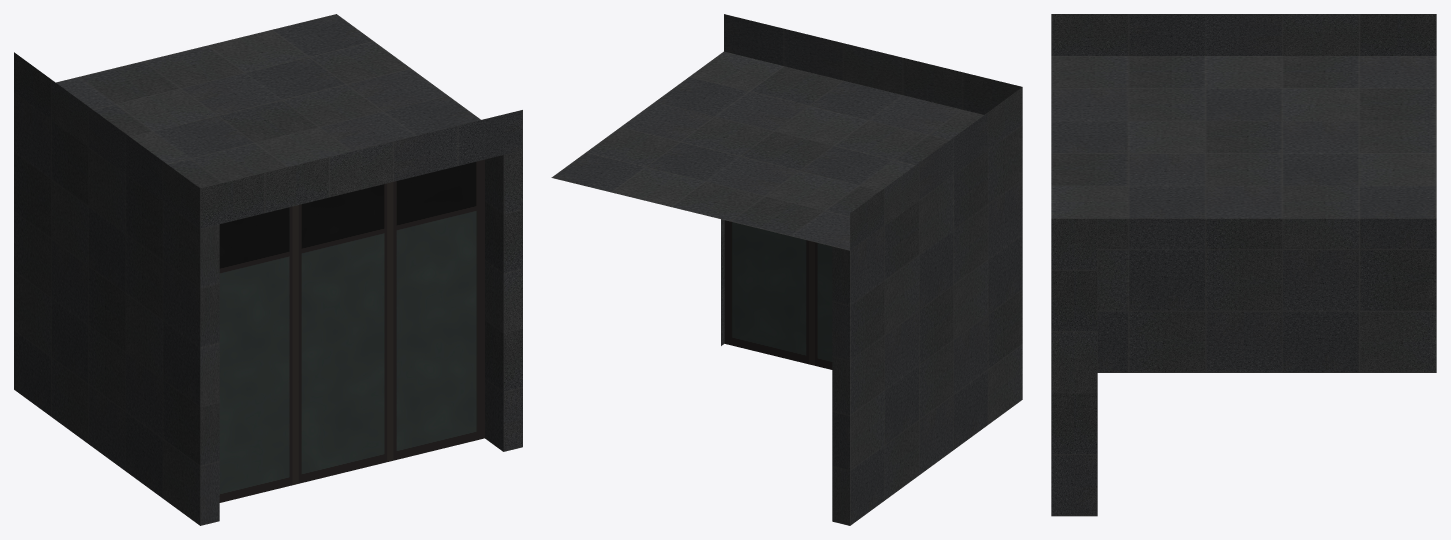
The model's file is ground_floor_left_edge.glb.
3 views of the same model, side by side, from view 1: azimuth 30°, elevation 25°; view 2: azimuth 150°, elevation 25°; view 3: azimuth 270°, elevation 25° (orthographic). The views are drawn at different scales.
Parts seen in each view (by area): view 1: Glass 1, Column 1, Entablature, Column 2; view 2: Entablature, Column 1, Glass 1; view 3: Entablature, Column 1, Column 2.
Part boxes in pixels (<box>): Glass 1: <box>219,159,484,502</box>; Column 1: <box>14,93,219,525</box>; Entablature: <box>14,14,522,228</box>; Column 2: <box>485,150,522,451</box>; Entablature: <box>551,14,1022,250</box>; Column 1: <box>832,125,1022,525</box>; Glass 1: <box>724,220,832,369</box>; Entablature: <box>1051,14,1436,218</box>; Column 1: <box>1097,218,1436,372</box>; Column 2: <box>1051,218,1097,516</box>.
Size of the model in its own units: 5 by 5 by 5.
2 materials, 2 textured.
